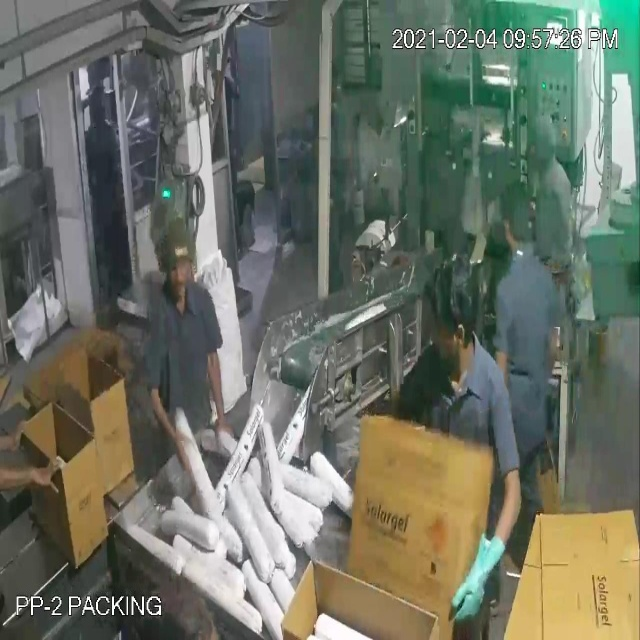Guantes: (448, 518, 518, 640)
Sin_guantes: (133, 380, 194, 479), (1, 451, 61, 524), (196, 316, 227, 452), (0, 419, 33, 464)
